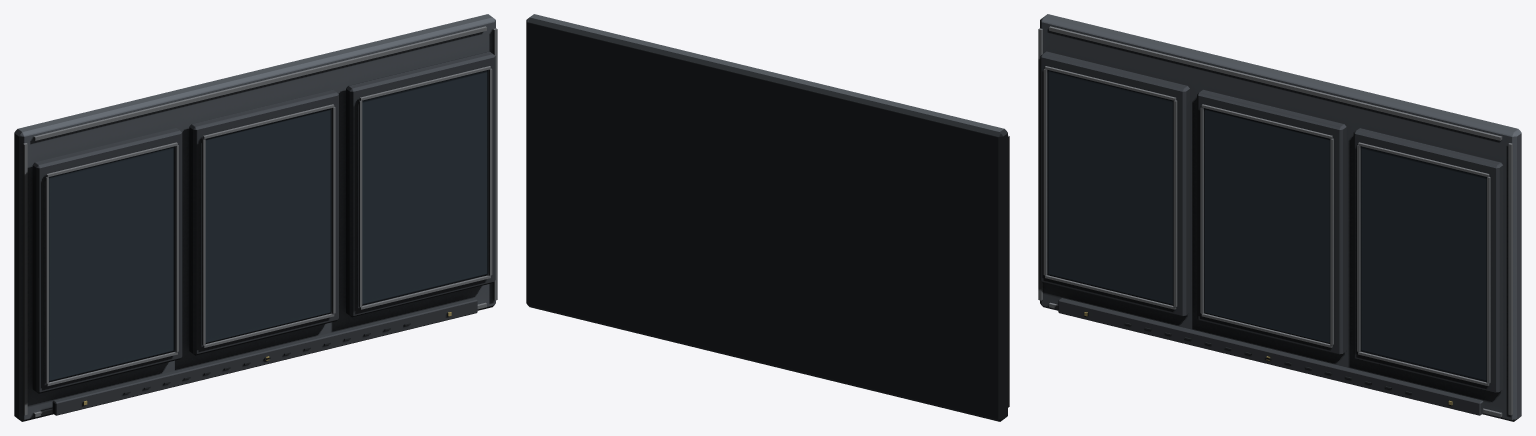
The model's file is 0-20261016-1900-ev052-r09-cfo-financescreen_baked.glb.
3 renders of one model, left to right at view 1: azimuth 30°, elevation 25°; view 2: azimuth 150°, elevation 25°; view 3: azimuth 330°, elevation 25°, orthographic.
Visible parts, largest first — view 1: SW_Exec_FinanceScreen; view 2: SW_Exec_FinanceScreen; view 3: SW_Exec_FinanceScreen.
Part boxes in pixels (x1,y1,x2,y2): SW_Exec_FinanceScreen: [14, 14, 497, 421]; SW_Exec_FinanceScreen: [526, 14, 1009, 421]; SW_Exec_FinanceScreen: [1038, 14, 1521, 421].
Bounding box in the file's own units: 2.62 × 1.52 × 0.176.
Materials: 1 (1 with a texture image).
